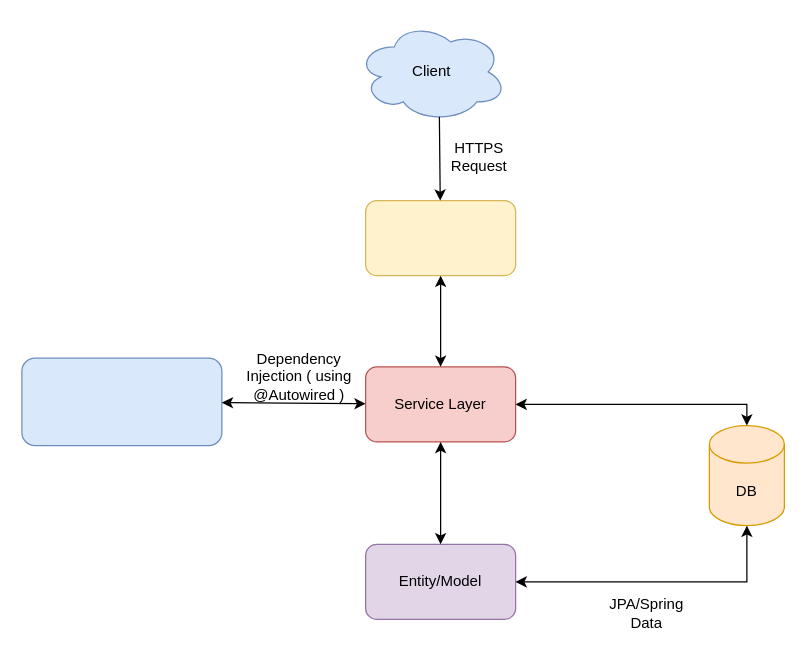
Some shapes in this 806 by 654 pixel diagram are drawn without their labels. The shapes that lost their labels are listed below. From the top down, each one's box as (x1, y1, x2, y2) in pixels, then its label:
(364, 199, 516, 276): Controller
(21, 357, 222, 446): Repository Classes ( extending CRUD services, Repository per service )
